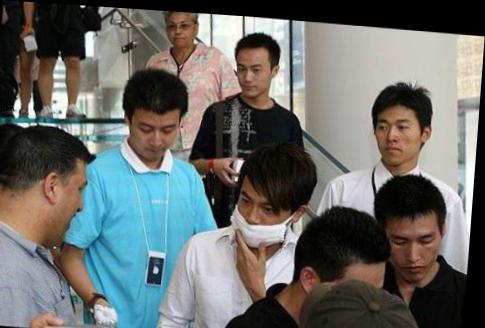NONE: (36, 173, 93, 245), (389, 219, 446, 280), (133, 108, 180, 161), (374, 111, 422, 161), (236, 52, 273, 93), (164, 14, 195, 47)
WRONG: (235, 181, 295, 241)
